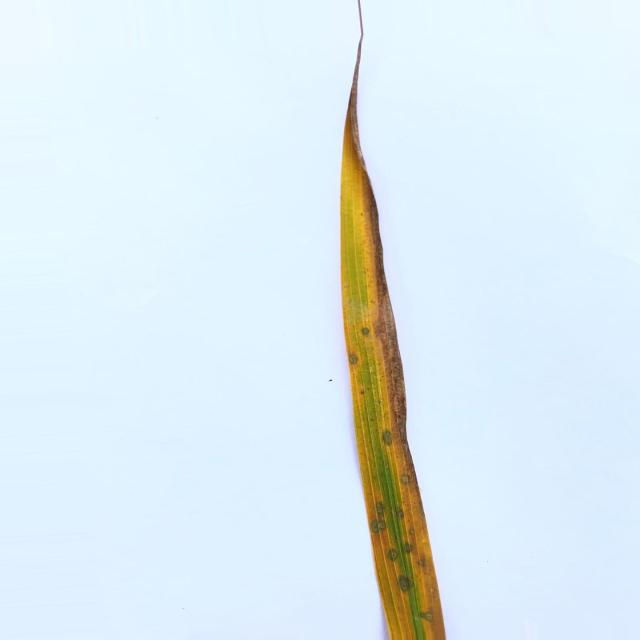Rice Tungro: (342, 131, 407, 442)
